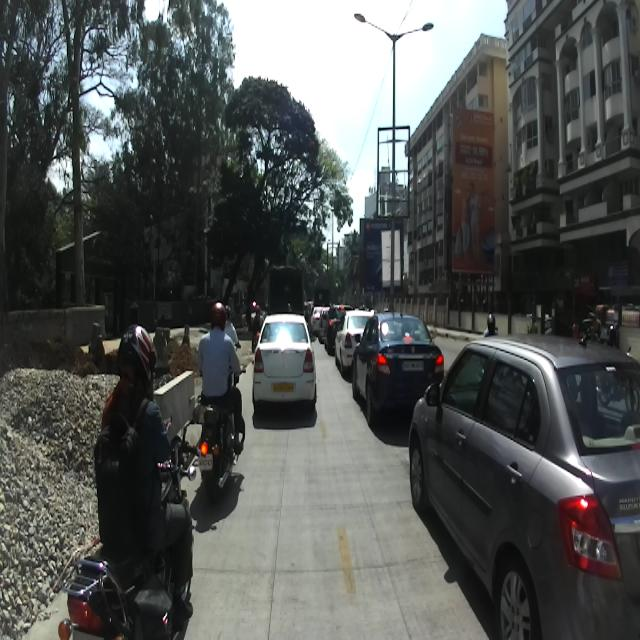car ahead at: (408, 329, 640, 640), (354, 310, 432, 424), (252, 314, 314, 412)
motorcycle ahead at: (196, 399, 242, 501)
